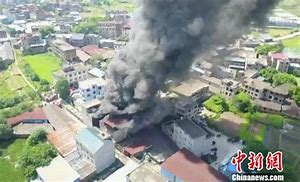smoke: (98, 1, 275, 114)
